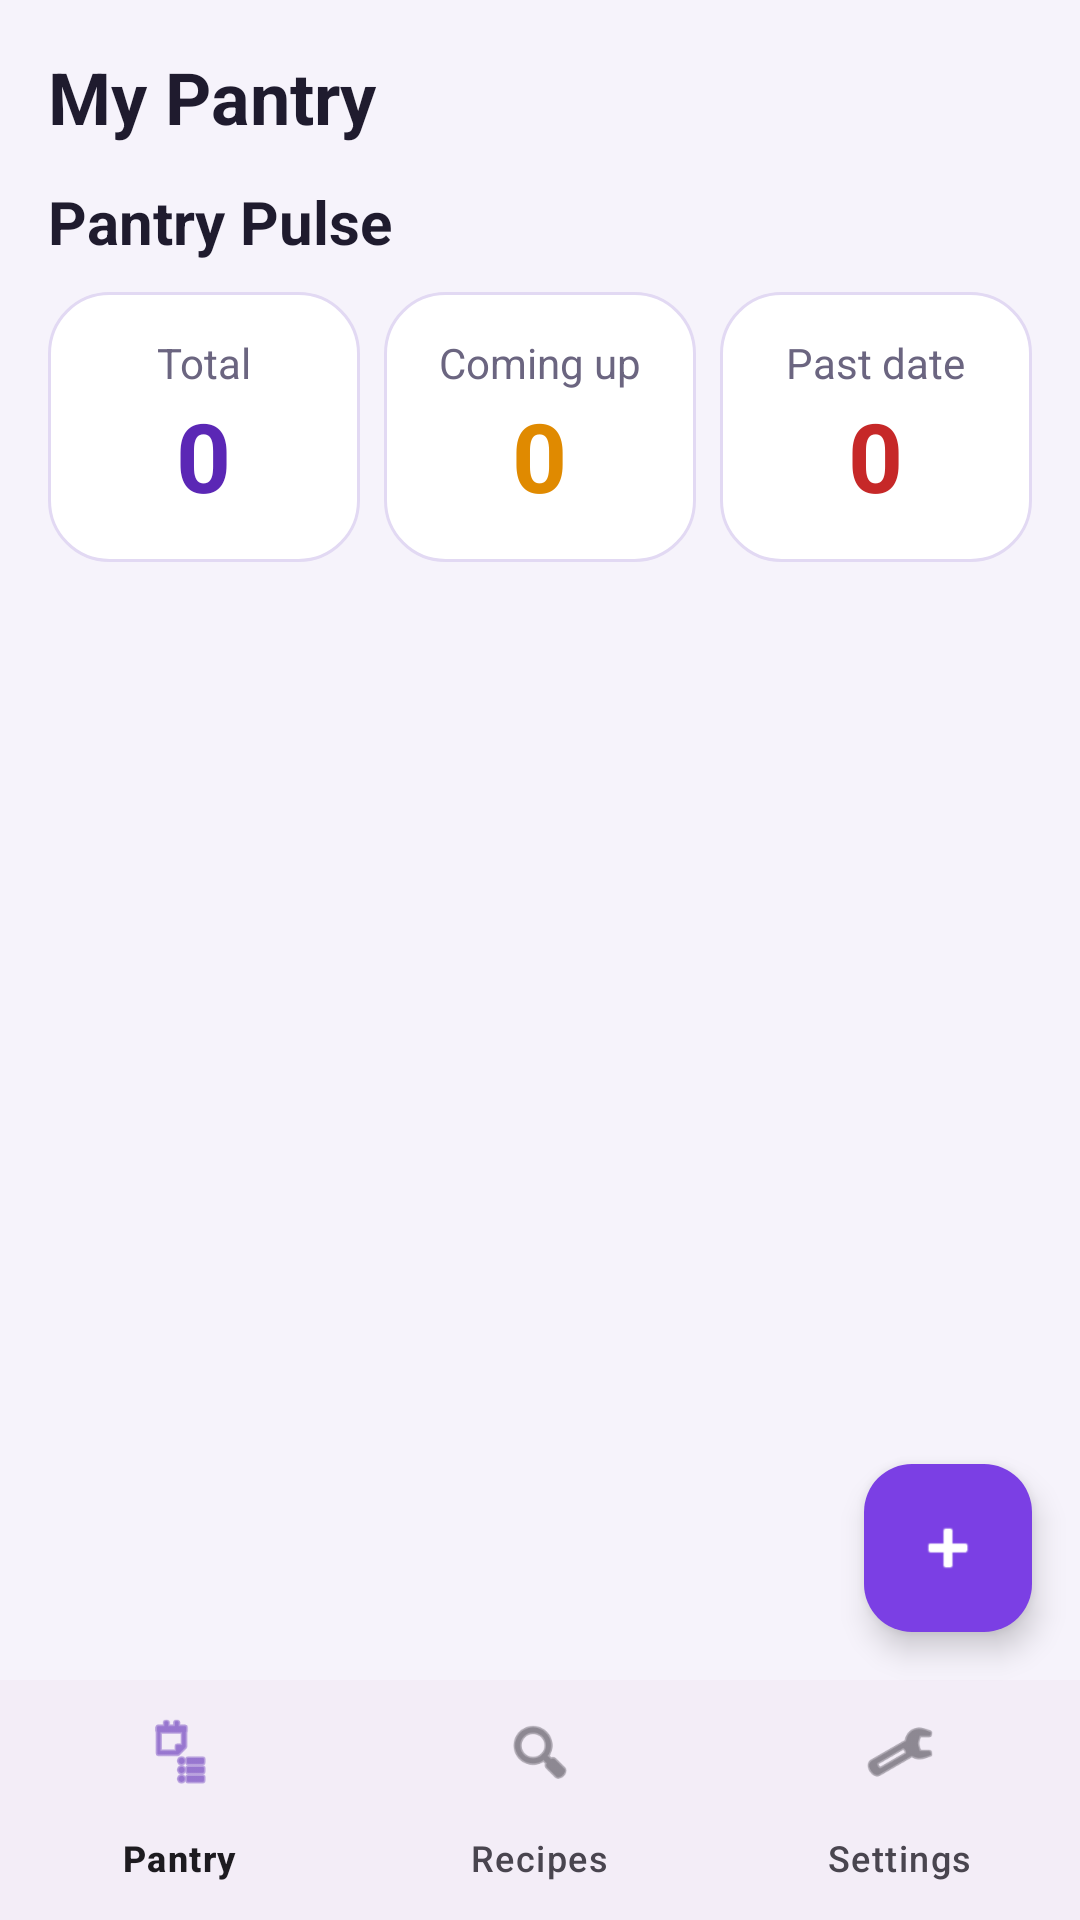

Locate icon controls on the screen. Image size 1080 x 1920, boxes as [x1=x1, y1=y1, x2=x2, y2=y2].
Add ingredient: [x1=864, y1=1464, x2=1032, y2=1632]
